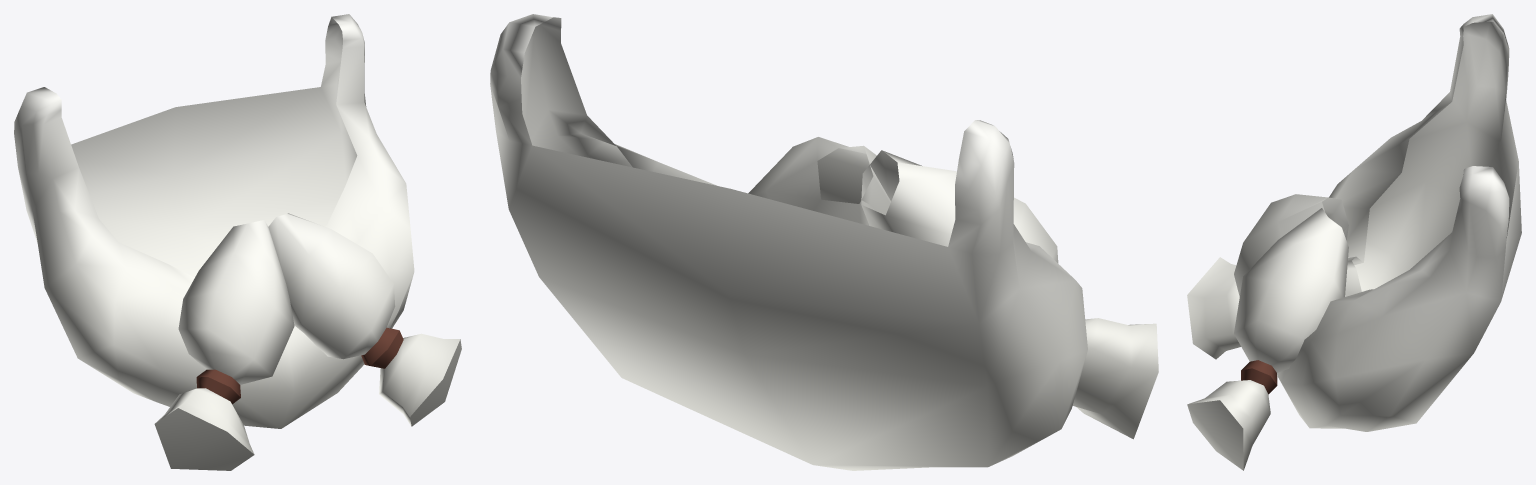
Rendered from Beard_White_14.fbx.
The picture shows the model from 3 angles, left to right: view 1: azimuth 30°, elevation 25°; view 2: azimuth 150°, elevation 25°; view 3: azimuth 270°, elevation 25°; orthographic projection. The views are drawn at different scales.
Parts seen in each view (by area): view 1: Beard_White_14; view 2: Beard_White_14; view 3: Beard_White_14.
Part boxes in pixels (x1=…): Beard_White_14: x1=14, y1=14, x2=461, y2=470; Beard_White_14: x1=490, y1=14, x2=1158, y2=470; Beard_White_14: x1=1187, y1=14, x2=1521, y2=470.
Bounding box in the file's own units: 54 × 46 × 42.91.
